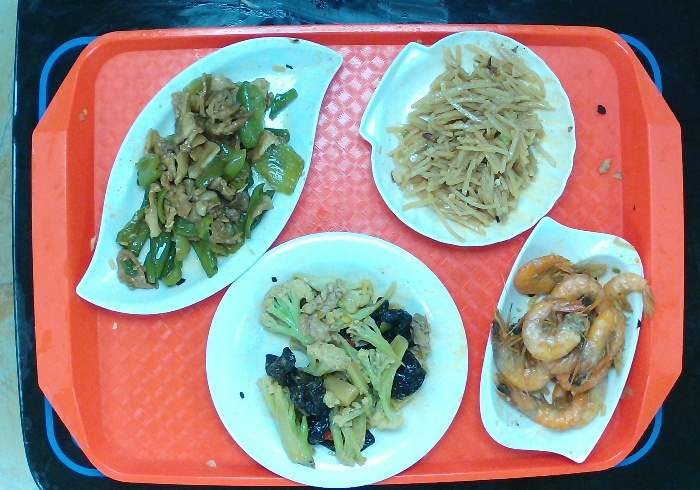RJxy-Bei_Ke_Wan: (361, 26, 580, 252)
RJxy-Jian_Jiao_Fang_Die: (476, 219, 652, 460)
RJxy-Jian_Jiao_Pan: (74, 30, 345, 325)
RJxy-Yuan_Pan: (202, 232, 470, 490)
